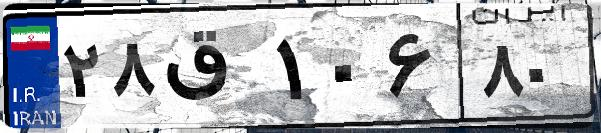0: (330, 28, 385, 110), (525, 38, 570, 115)
1: (270, 28, 330, 110)
2: (57, 26, 110, 100)
6: (385, 28, 445, 110)
8: (475, 38, 525, 113), (110, 28, 158, 98)
ق: (158, 20, 270, 120)
